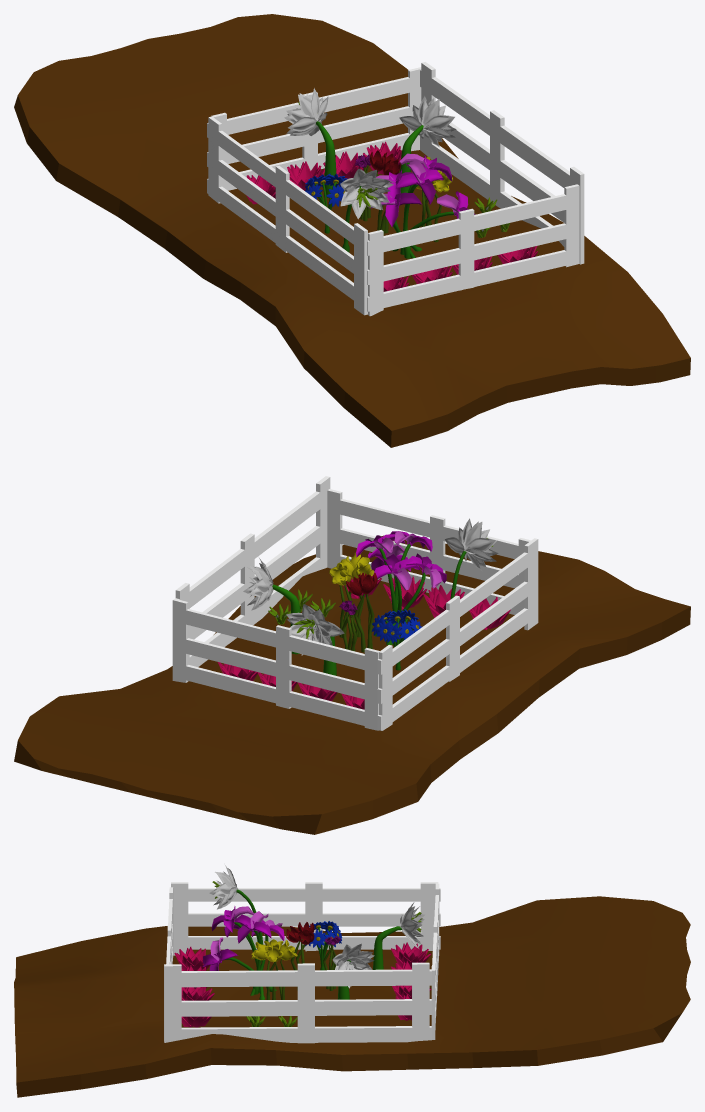
The model's file is FLOWERBED.fbx.
3 renders of one model, top to bottom at view 1: azimuth 30°, elevation 25°; view 2: azimuth 150°, elevation 25°; view 3: azimuth 270°, elevation 25°, orthographic. The views are drawn at different scales.
Parts seen in each view (by area): view 1: FLOWERBED:pSphere47; view 2: FLOWERBED:pSphere47; view 3: FLOWERBED:pSphere47.
Part boxes in pixels (bbox=[...]): FLOWERBED:pSphere47: bbox=[14, 14, 690, 447]; FLOWERBED:pSphere47: bbox=[14, 476, 690, 834]; FLOWERBED:pSphere47: bbox=[14, 865, 690, 1097].
Size of the model in its own units: 753 by 338 by 1421.
